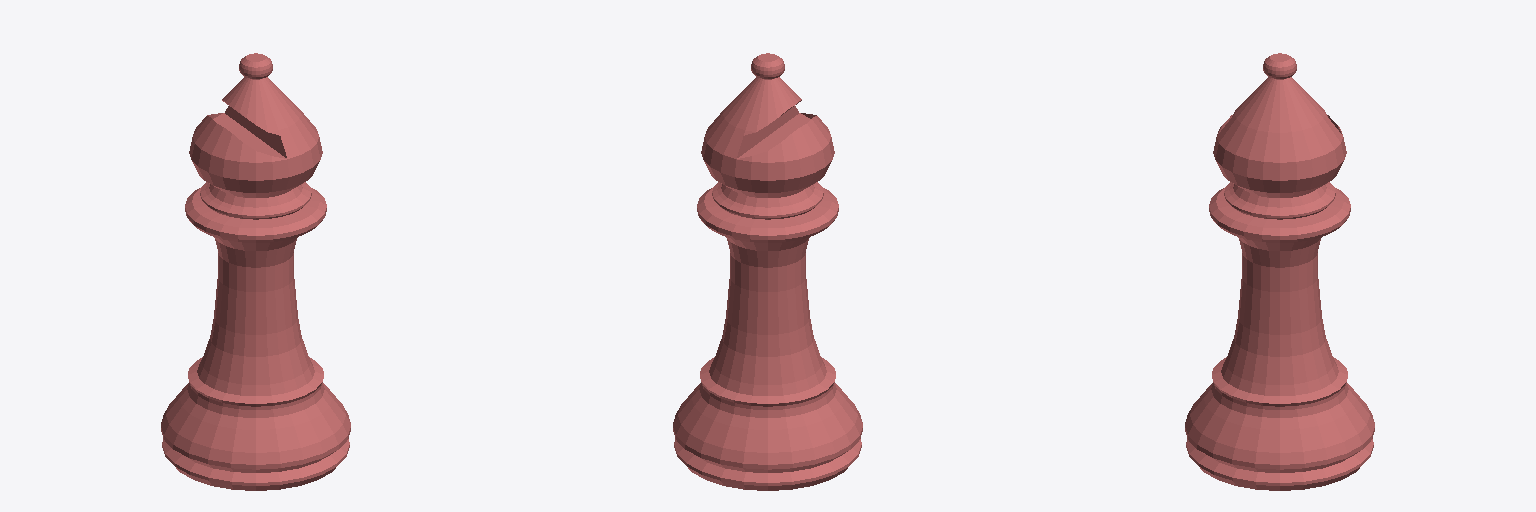
File: bishop.obj
3 views of the same model, side by side, from view 1: azimuth 30°, elevation 25°; view 2: azimuth 150°, elevation 25°; view 3: azimuth 270°, elevation 25° (orthographic).
Parts seen in each view (by area): view 1: SketchUp_ID2, SketchUp.003_ID22, SketchUp.001_ID10; view 2: SketchUp_ID2, SketchUp.003_ID22, SketchUp.001_ID10; view 3: SketchUp_ID2, SketchUp.003_ID22, SketchUp.001_ID10.
Boxes of the visible parts, <box> form: SketchUp_ID2: <box>161,182,350,490</box>; SketchUp.003_ID22: <box>189,77,322,197</box>; SketchUp.001_ID10: <box>239,53,272,79</box>; SketchUp_ID2: <box>673,182,862,490</box>; SketchUp.003_ID22: <box>701,77,834,197</box>; SketchUp.001_ID10: <box>751,53,784,79</box>; SketchUp_ID2: <box>1185,182,1374,490</box>; SketchUp.003_ID22: <box>1213,77,1346,197</box>; SketchUp.001_ID10: <box>1263,53,1296,79</box>.
Bounding box in the file's own units: 0.7815 × 1.79 × 0.7815.